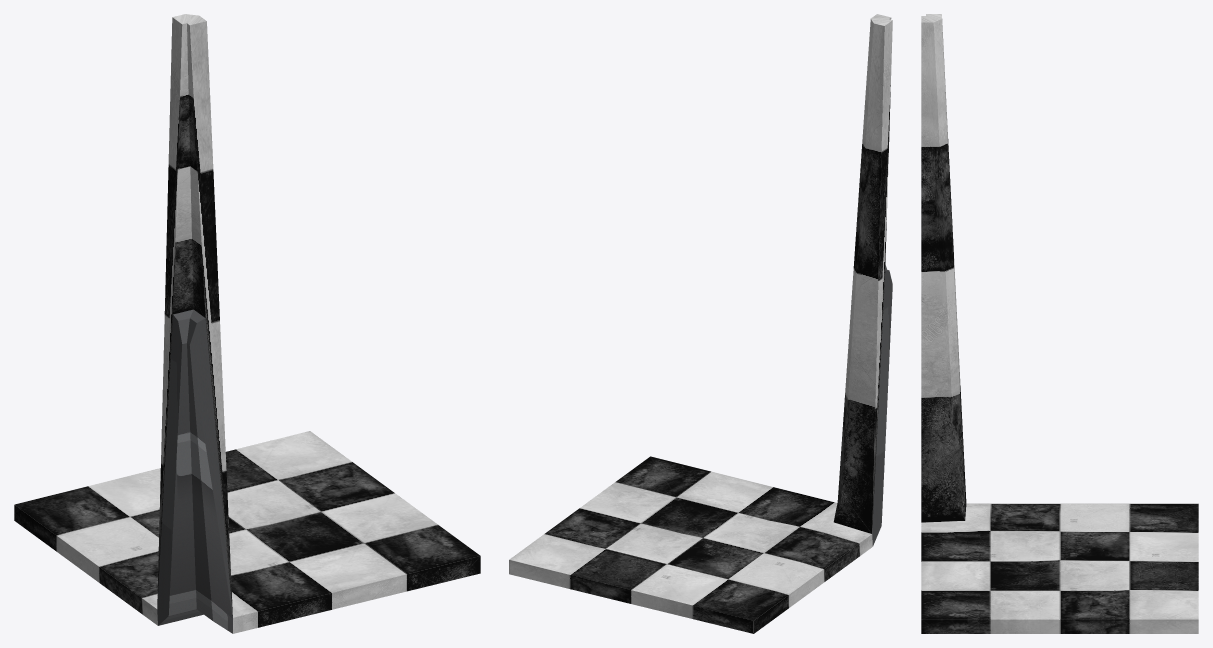
The model's file is building_01_inner_corner_tile.obj.
3 renders of one model, left to right at view 1: azimuth 30°, elevation 25°; view 2: azimuth 150°, elevation 25°; view 3: azimuth 270°, elevation 25°, orthographic. The views are drawn at different scales.
Parts seen in each view (by area): view 1: inner_corner_Cube.012; view 2: inner_corner_Cube.012; view 3: inner_corner_Cube.012.
Part boxes in pixels (x1,y1,x2,y2): inner_corner_Cube.012: (14,14,480,633); inner_corner_Cube.012: (509,14,892,633); inner_corner_Cube.012: (921,14,1198,633).
Size of the model in its own units: 2 by 4 by 2.
